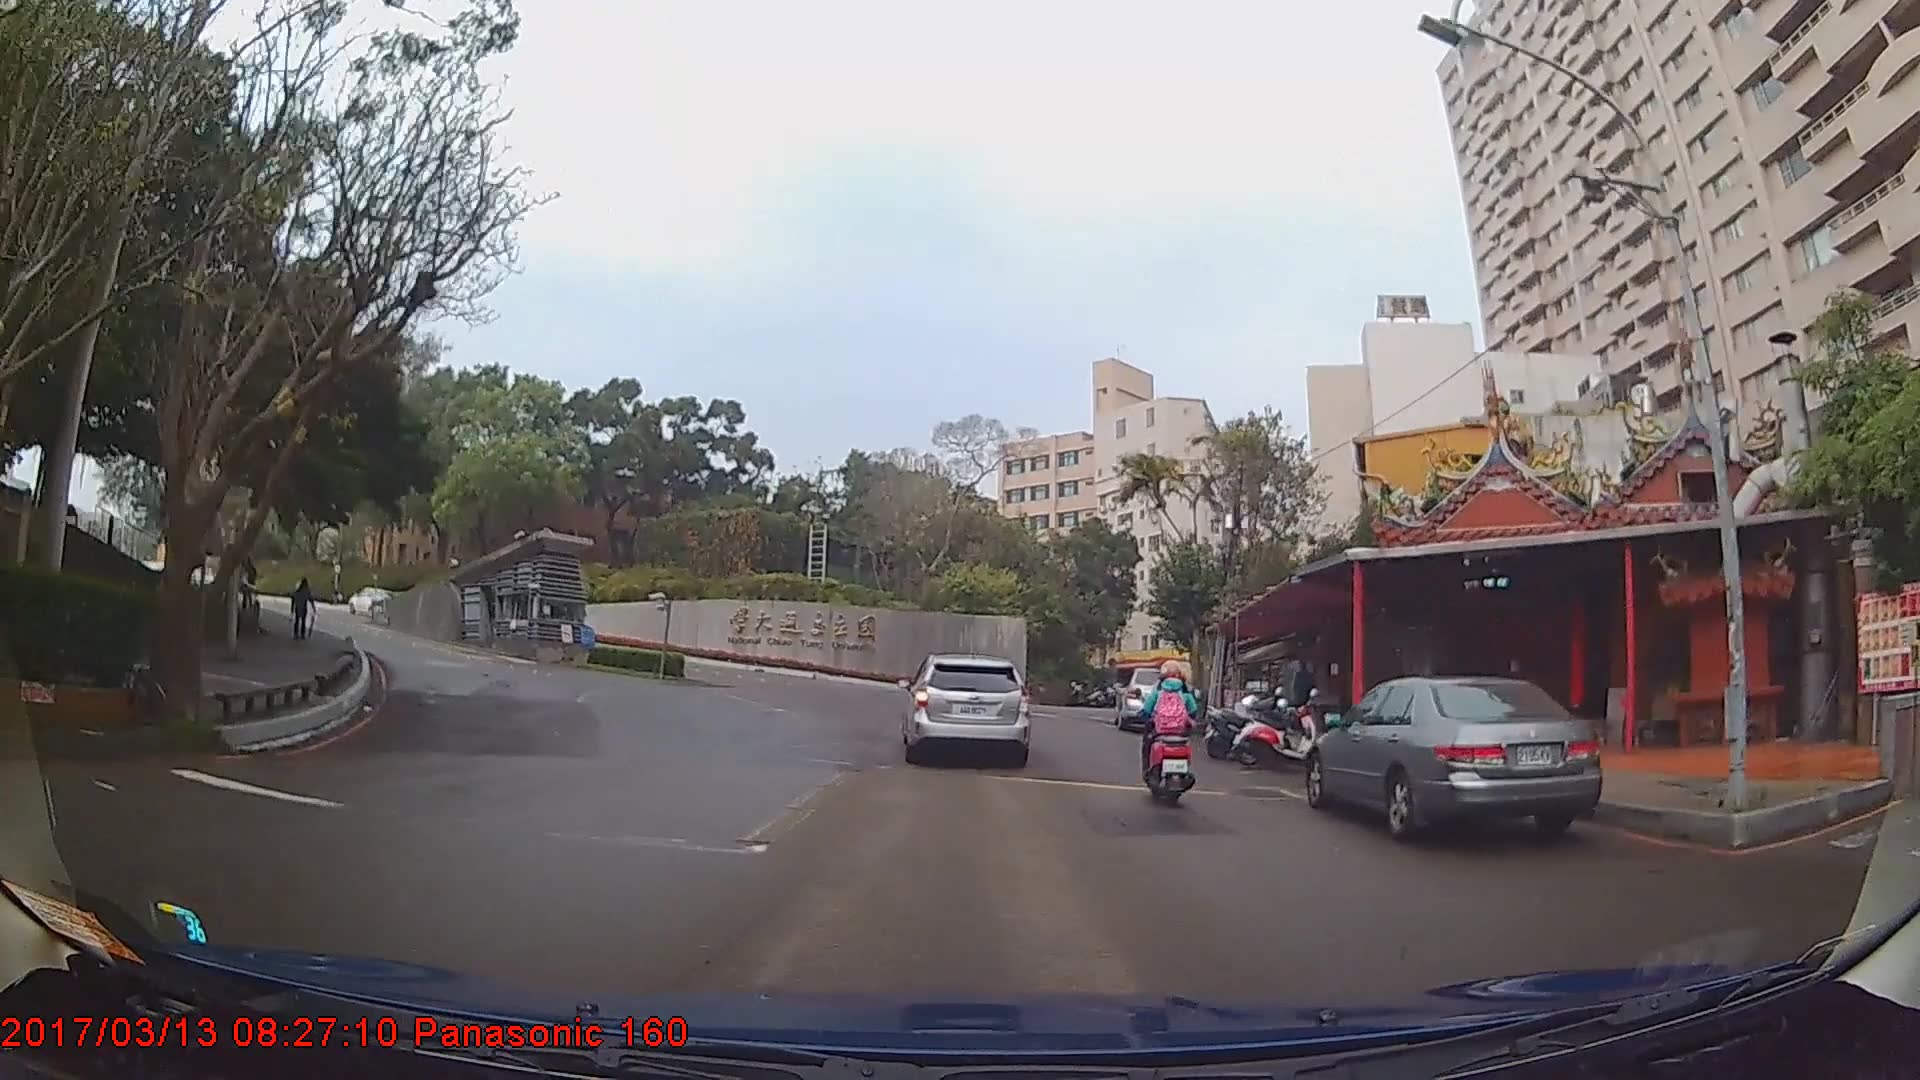pedestrian: (1290, 655, 1319, 734), (291, 579, 319, 641), (239, 552, 264, 613)
rider: (1135, 655, 1204, 812)
vehicle: (1303, 673, 1603, 841), (899, 646, 1028, 760), (1112, 666, 1189, 732), (345, 582, 396, 609)
